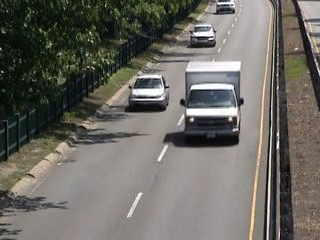car: (127, 72, 172, 110), (187, 23, 218, 49), (215, 1, 240, 17)
truck: (179, 59, 245, 146)
